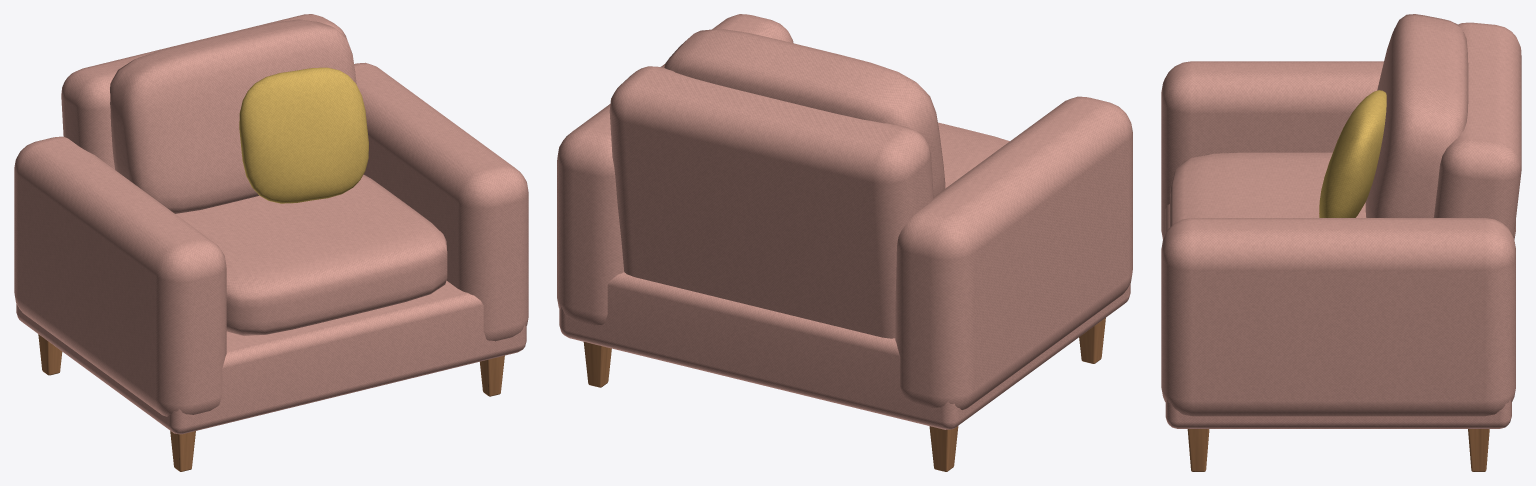
The model's file is prop_armchair.glb.
3 renders of one model, left to right at view 1: azimuth 30°, elevation 25°; view 2: azimuth 150°, elevation 25°; view 3: azimuth 270°, elevation 25°, orthographic. The views are drawn at different scales.
Parts seen in each view (by area): view 1: prop_armchair; view 2: prop_armchair; view 3: prop_armchair.
Boxes of the visible parts, <box> form: prop_armchair: <box>14,14,528,471</box>; prop_armchair: <box>557,14,1132,471</box>; prop_armchair: <box>1161,14,1521,471</box>.
Size of the model in its own units: 1.38 by 1.12 by 1.09.
3 materials, 3 textured.
